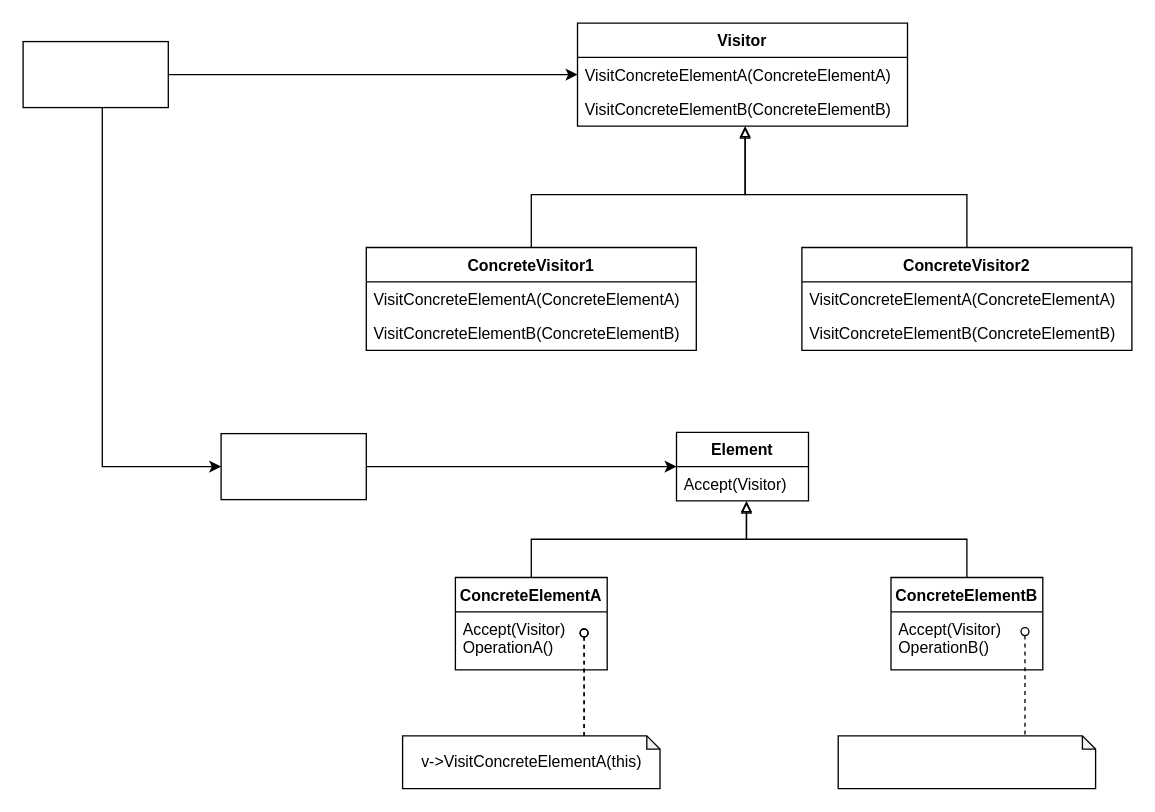
Image size: 1155x812. Some labels were removed from this diagram. The centre of each missing label's shape, as x and y in pixels:
"Client" goes at (95,74).
"ObjectStructure" goes at (293,466).
"v->VisitConcreteElementB(this)" goes at (966,762).
